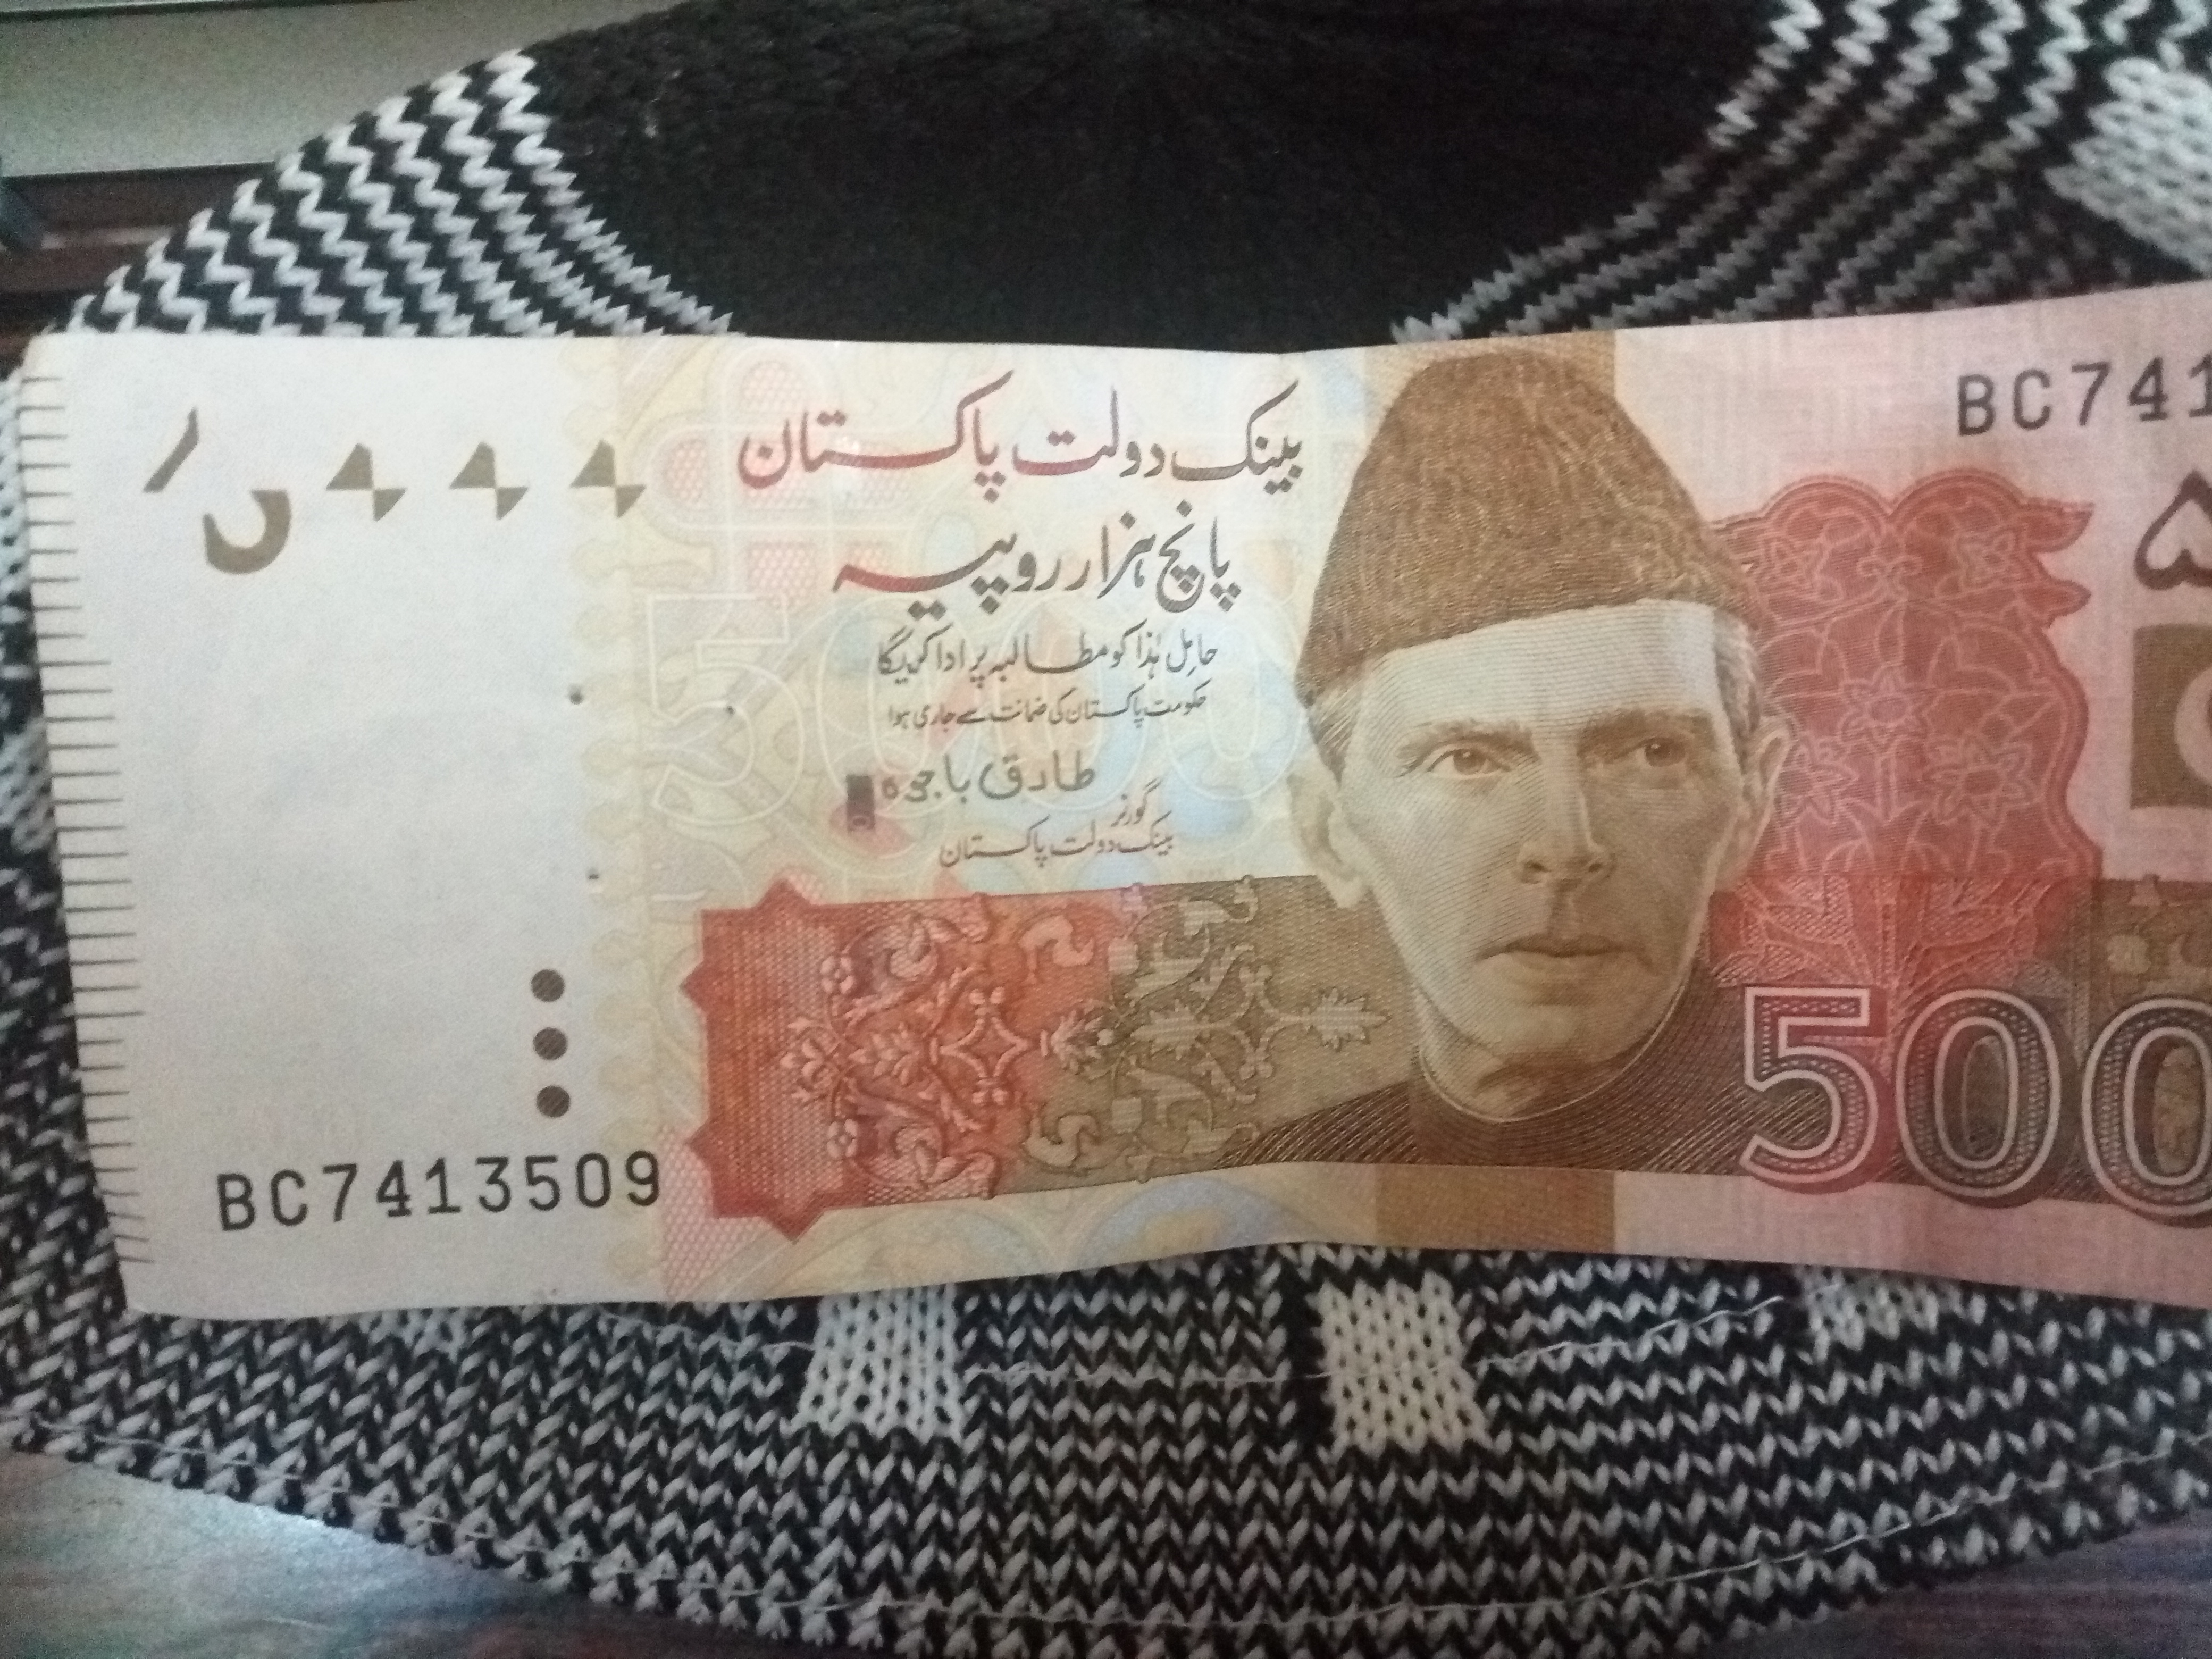5000 rupee: (12, 303, 2196, 1310)
